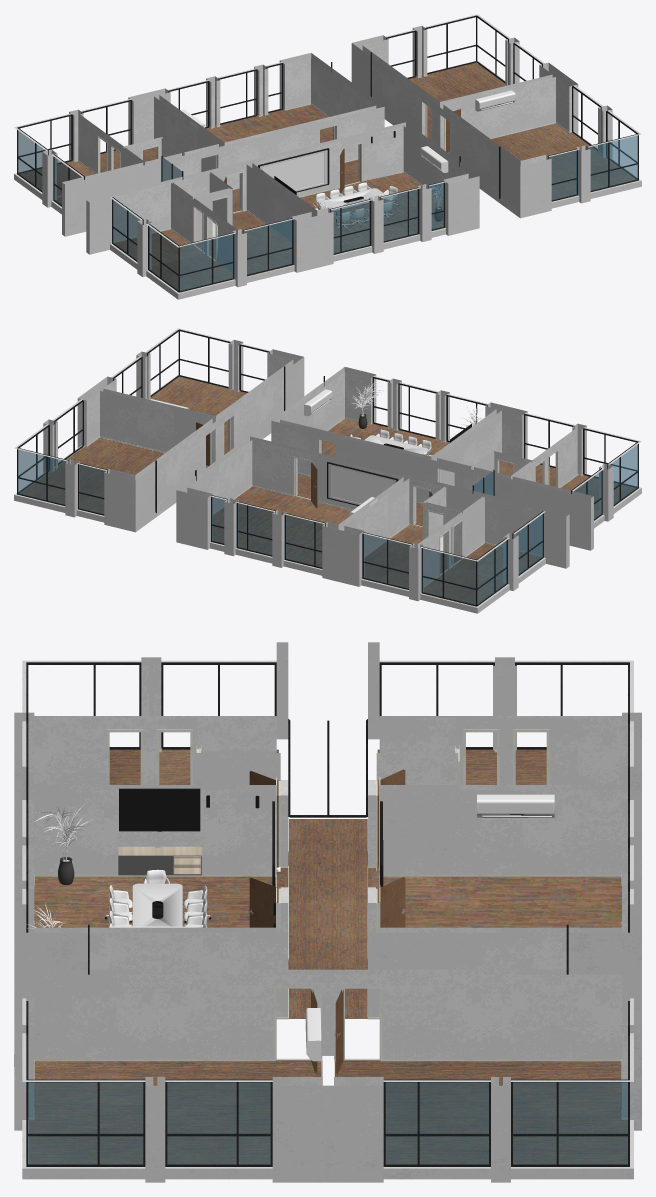
The model's file is building5.glb.
3 renders of one model, top to bottom at view 1: azimuth 30°, elevation 25°; view 2: azimuth 150°, elevation 25°; view 3: azimuth 270°, elevation 25°, orthographic. The views are drawn at different scales.
Parts seen in each view (by area): view 1: Floor3, Floor3_Room1, Floor3_Room8, Floor3_Room6, Floor3_Room2, Floor3_Room7, Floor3_Room3, Cadre50x50, Floor3_Room5, Furniture, AC_Device02, Floor3_Room4; view 2: Floor3, Floor3_Room3, Floor3_Room2, Floor3_Room5, Floor3_Room1, Floor3_Room4, Cadre50x50.001, Floor3_Room8, Floor3_Room6, Mesh1031 Plant_005 Group185 VASO_11_1 Model, Floor3_Room7, Furniture; view 3: Floor3, Floor3_Room1, Floor3_Room2, Floor3_Room3, Zone02, Floor3_Room8, Zone01, Mesh13 Group4 Group3 Model, Mesh2 Group1 Model, Floor3_Room6, Floor3_Room5, Furniture (+5 smaller).
Part boxes in pixels (x1,y1,x2,y2): Floor3: [14, 14, 641, 299]; Floor3_Room1: [447, 123, 635, 199]; Floor3_Room8: [300, 172, 442, 252]; Floor3_Room6: [114, 229, 231, 290]; Floor3_Room2: [409, 62, 505, 140]; Floor3_Room7: [196, 211, 293, 276]; Floor3_Room3: [206, 104, 333, 142]; Cadre50x50: [258, 148, 329, 192]; Floor3_Room5: [20, 161, 94, 204]; Furniture: [319, 188, 387, 210]; AC_Device02: [475, 90, 515, 111]; Floor3_Room4: [100, 147, 156, 172]; Floor3: [14, 328, 641, 613]; Floor3_Room3: [211, 486, 351, 568]; Floor3_Room2: [21, 437, 208, 513]; Floor3_Room5: [423, 543, 541, 605]; Floor3_Room1: [150, 376, 246, 454]; Floor3_Room4: [364, 525, 459, 588]; Cadre50x50.001: [327, 462, 398, 505]; Floor3_Room8: [322, 418, 449, 456]; Floor3_Room6: [561, 475, 635, 518]; Mesh1031 Plant_005 Group185 VASO_11_1 Model: [351, 381, 482, 426]; Floor3_Room7: [499, 461, 555, 486]; Furniture: [364, 435, 428, 454]; Floor3: [14, 642, 641, 1182]; Floor3_Room1: [29, 1060, 322, 1163]; Floor3_Room2: [335, 1061, 627, 1163]; Floor3_Room3: [371, 871, 621, 927]; Zone02: [280, 819, 375, 918]; Floor3_Room8: [34, 871, 283, 927]; Zone01: [288, 919, 367, 1018]; Mesh13 Group4 Group3 Model: [119, 788, 200, 831]; Mesh2 Group1 Model: [118, 846, 201, 875]; Floor3_Room6: [109, 749, 278, 784]; Floor3_Room5: [377, 749, 546, 784]; Furniture: [132, 883, 182, 926].
Size of the model in its own units: 5.24 by 0.5954 by 3.14.
44 materials, 16 textured.
